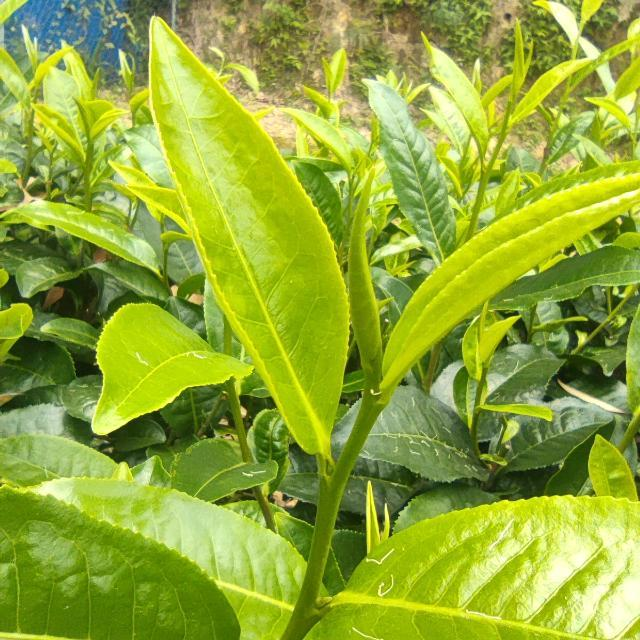Stem: (347, 402, 386, 445), (479, 172, 490, 189), (476, 380, 485, 396), (83, 170, 90, 185), (28, 121, 34, 134), (564, 89, 571, 98), (164, 251, 168, 262)
